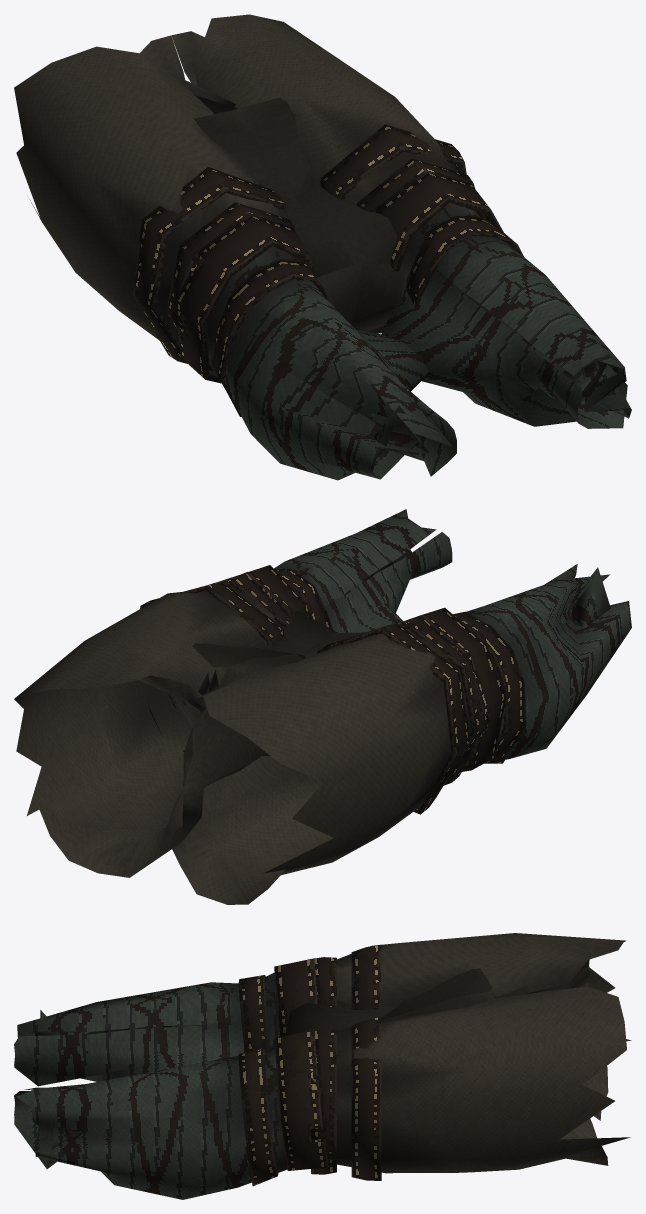
The model's file is jambieres_fourrure.glb.
3 renders of one model, top to bottom at view 1: azimuth 30°, elevation 25°; view 2: azimuth 150°, elevation 25°; view 3: azimuth 270°, elevation 25°, orthographic. The views are drawn at different scales.
Visible parts, largest first — view 1: jambieres_fourrure; view 2: jambieres_fourrure; view 3: jambieres_fourrure.
Part boxes in pixels (left/top/right/bottom): jambieres_fourrure: left=14, top=14, right=631, bottom=480; jambieres_fourrure: left=14, top=509, right=631, bottom=904; jambieres_fourrure: left=14, top=933, right=631, bottom=1199.
Bounding box in the file's own units: 0.4236 × 0.2762 × 0.8328.
1 material, 1 textured.
